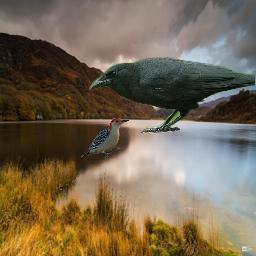Crow: (89, 57, 256, 135)
Woodpecker: (81, 118, 130, 158)
